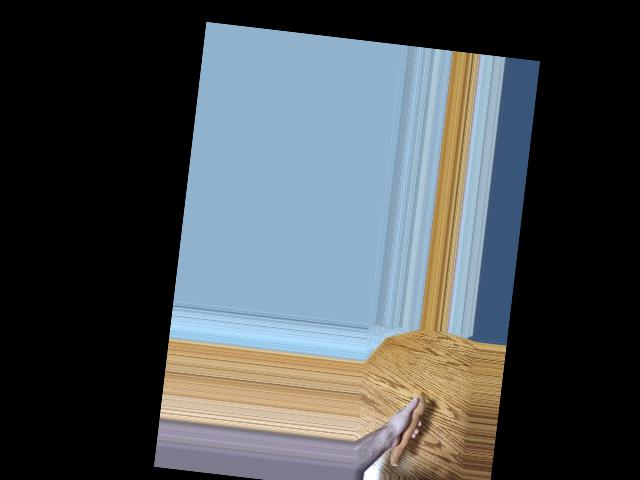sweet_potato: (386, 391, 429, 470)
